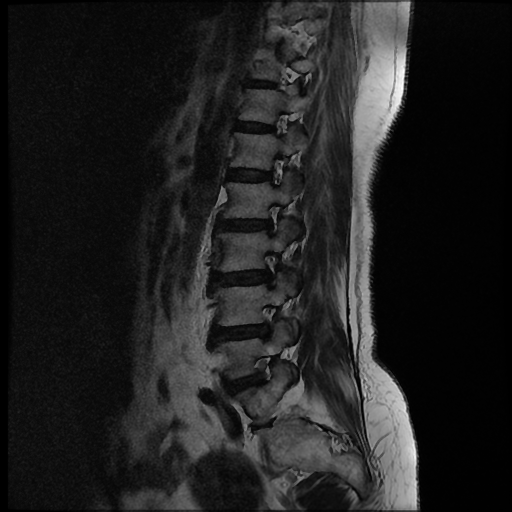LFS0: (256, 147, 293, 191)
LFS1: (254, 194, 291, 242), (246, 349, 292, 386)
LFS2: (250, 243, 288, 294), (249, 299, 286, 347)
